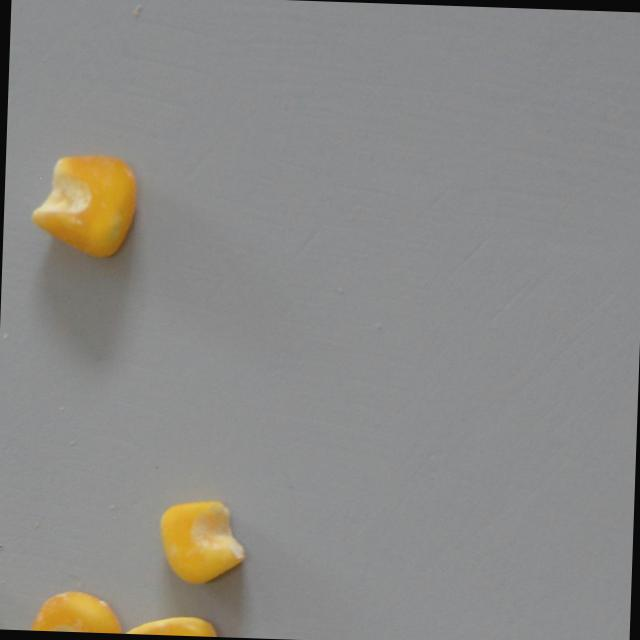no_canjicado: (29, 151, 138, 258), (157, 498, 247, 586), (113, 611, 221, 637), (0, 560, 26, 630)
pelicula: (26, 588, 123, 633)
